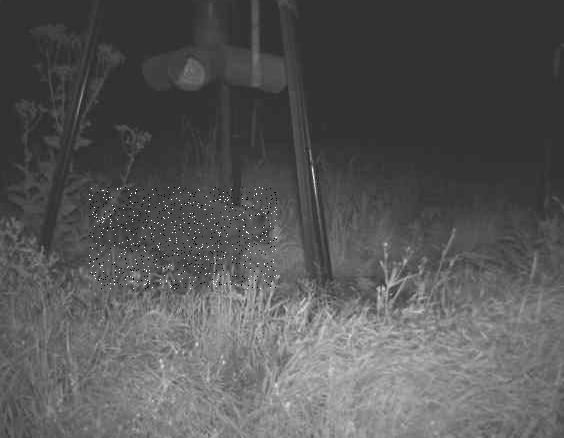Raccoon: (90, 187, 278, 289)
